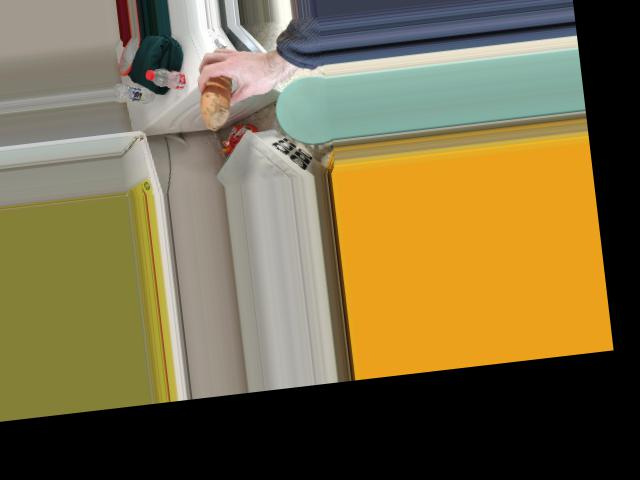sweet_potato: (194, 68, 243, 118)
